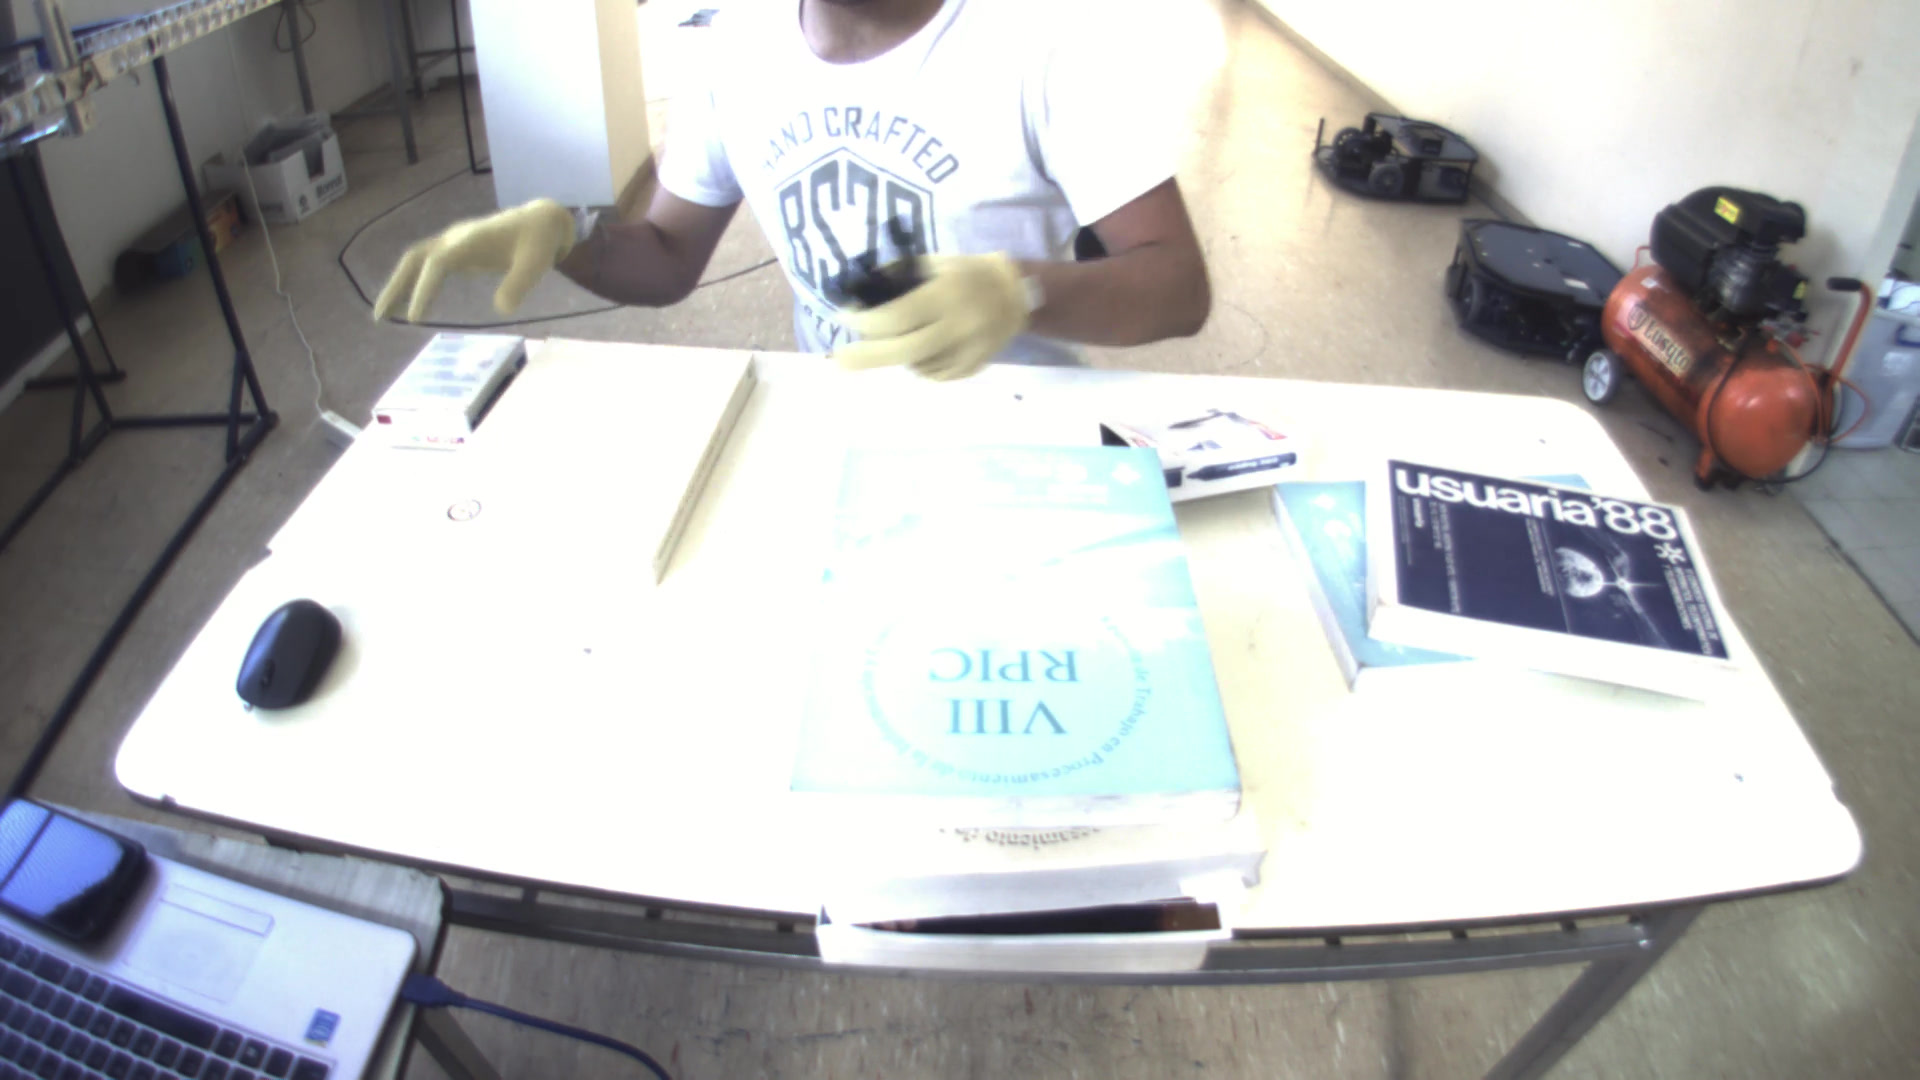hand: (823, 237, 1036, 382), (368, 179, 583, 322)
